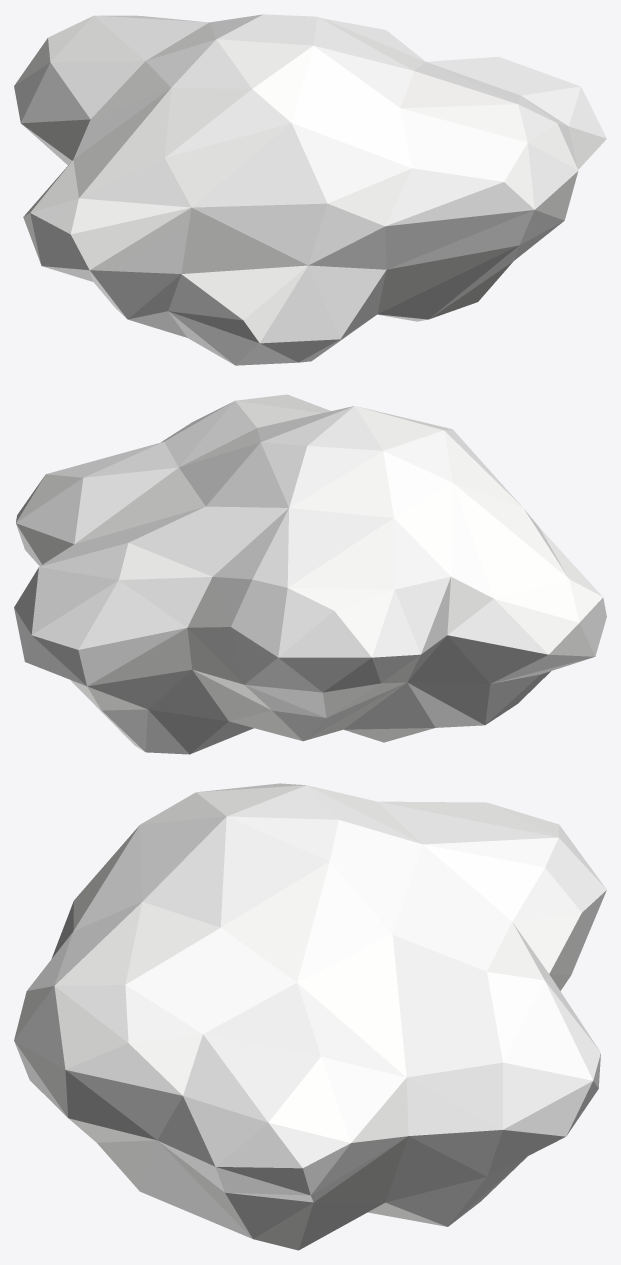
Rendered from oblako2.fbx.
3 renders of one model, top to bottom at view 1: azimuth 30°, elevation 25°; view 2: azimuth 150°, elevation 25°; view 3: azimuth 270°, elevation 25°, orthographic. The views are drawn at different scales.
Parts seen in each view (by area): view 1: Mball.003; view 2: Mball.003; view 3: Mball.003.
Part boxes in pixels (bbox=[...]): Mball.003: bbox=[14, 14, 606, 365]; Mball.003: bbox=[14, 394, 606, 754]; Mball.003: bbox=[14, 783, 606, 1250].
Size of the model in its own units: 1083 by 556 by 864.
